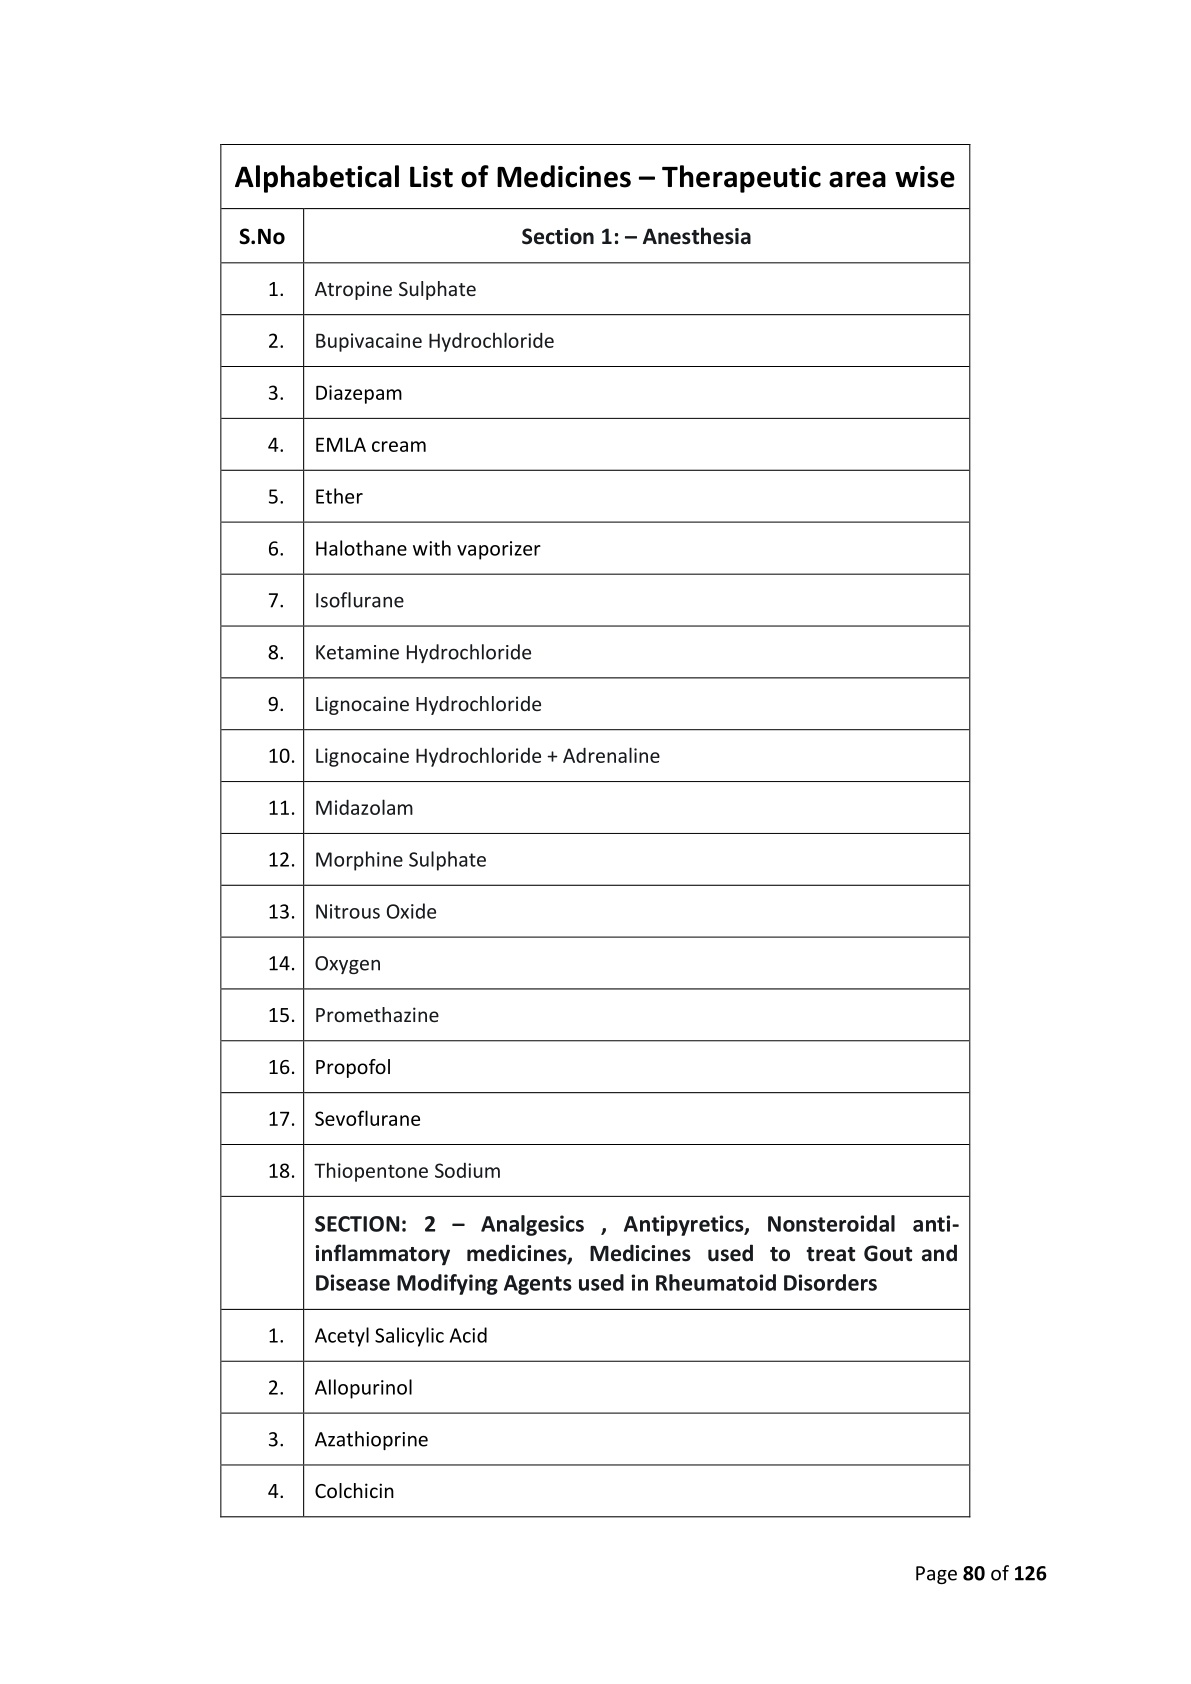merged_cells: (219, 142, 972, 1519)
